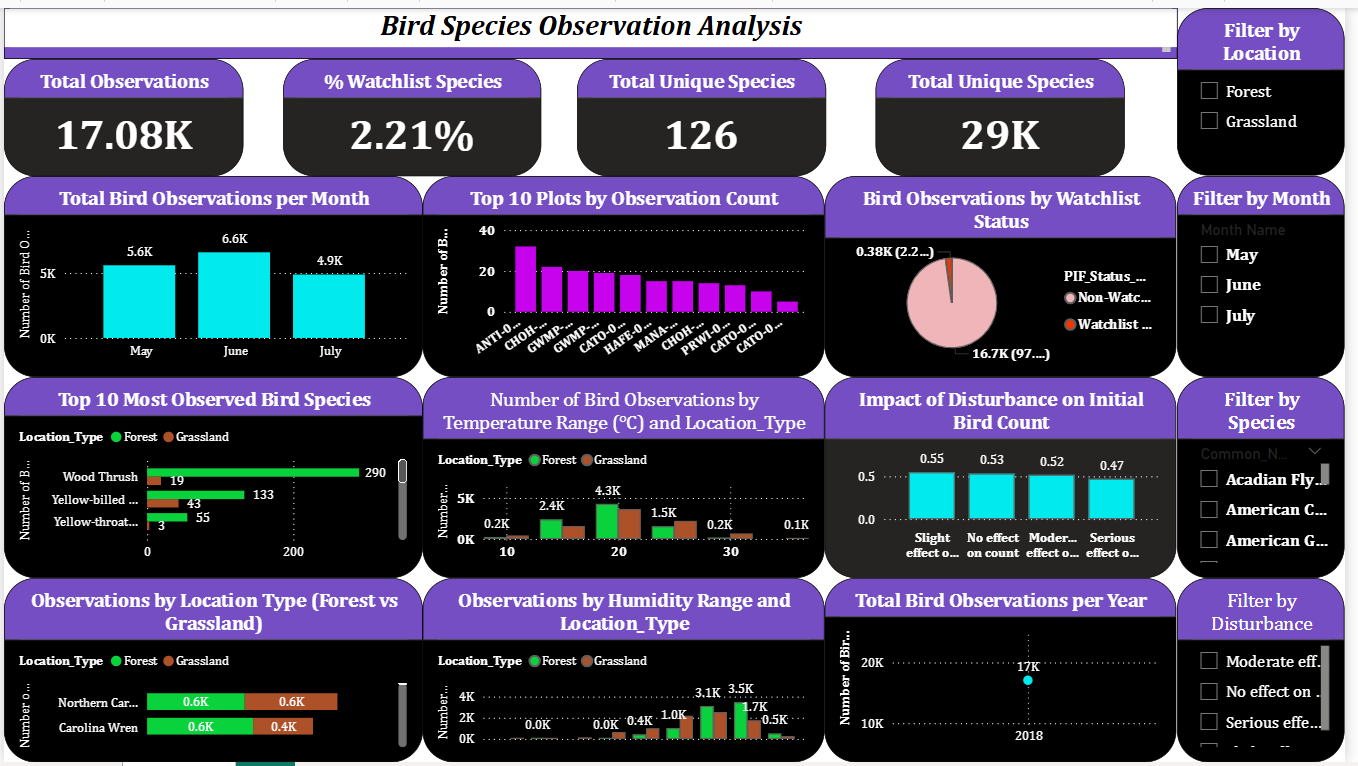

This screenshot's page, from the dashboard's own definition file:
{"tool":"powerbi","page":{"name":"Page 1","canvas":[1280,720],"ordinal":0},"visuals":[{"type":"lineChart","title":"Total Bird Observations per Year","fields":{"Category":["bird_data_cleaned.Year"],"Y":["CountNonNull(bird_data_cleaned.Common_Name)"]},"box":[784,544,336,176],"z":0},{"type":"clusteredColumnChart","title":"Total Bird Observations per Month","fields":{"Category":["bird_data_cleaned.Month Name"],"Y":["CountNonNull(bird_data_cleaned.Common_Name)"]},"box":[0,160,400,192],"z":1000},{"type":"barChart","title":"Observations by Location Type (Forest vs Grassland)","fields":{"Category":["bird_data_cleaned.Common_Name"],"Y":["CountNonNull(bird_data_cleaned.Location_Type)"],"Series":["bird_data_cleaned.Location_Type"]},"box":[0,544,400,176],"z":2000},{"type":"textbox","title":"Bird Species Observation Analysis ","box":[0,0,1120.5,48.5],"z":3000},{"type":"card","title":"Total Observations","fields":{"Values":["CountNonNull(bird_data_cleaned.Common_Name)"]},"box":[0,48.5,228.6,112.1],"z":4000},{"type":"card","title":"Total Unique Species","fields":{"Values":["Count(bird_data_cleaned.Common_Name)"]},"box":[546.6,48.5,237.7,112.1],"z":5000},{"type":"clusteredColumnChart","title":" Top 10 Plots by Observation Count","fields":{"Category":["bird_data_cleaned.Plot_Name"],"Y":["CountNonNull(bird_data_cleaned.Common_Name)"]},"box":[400,160,384,192],"z":6000},{"type":"clusteredBarChart","title":"Top 10 Most Observed Bird Species","fields":{"Category":["bird_data_cleaned.Common_Name"],"Y":["CountNonNull(bird_data_cleaned.Common_Name)"],"Series":["bird_data_cleaned.Location_Type"]},"box":[0,352,400,192],"z":7000},{"type":"clusteredColumnChart","fields":{"Category":["bird_data_cleaned.Temperature (Groups)"],"Y":["CountNonNull(bird_data_cleaned.Common_Name)"],"Series":["bird_data_cleaned.Location_Type"]},"box":[400,352,384,192],"z":8000},{"type":"clusteredColumnChart","title":"Observations by Humidity Range and Location_Type","fields":{"Category":["bird_data_cleaned.Humidity (Groups)"],"Y":["CountNonNull(bird_data_cleaned.Common_Name)"],"Series":["bird_data_cleaned.Location_Type"]},"box":[400,544,384,176],"z":9000},{"type":"pieChart","title":"Bird Observations by Watchlist Status","fields":{"Y":["CountNonNull(bird_data_cleaned.Common_Name)"],"Category":["bird_data_cleaned.PIF_Status_Label"]},"box":[784,160,336,192],"z":10000},{"type":"clusteredColumnChart","title":"Impact of Disturbance on Initial Bird Count","fields":{"Category":["bird_data_cleaned.Disturbance"],"Y":["Avg(bird_data_cleaned.Initial_Three_Min_Cnt)"]},"box":[784,352,336,192],"z":11000},{"type":"card","title":"% Watchlist Species","fields":{"Values":["bird_data_cleaned.Watchlist_Percentage"]},"box":[266.5,48.5,246.8,112.1],"z":12000},{"type":"slicer","title":"Filter by Location","fields":{"Values":["bird_data_cleaned.Location_Type"]},"box":[1120,0,160,160],"z":13000},{"type":"slicer","title":"Filter by Month","fields":{"Values":["bird_data_cleaned.Month Name"]},"box":[1120,160,160,192],"z":14000},{"type":"slicer","title":"Filter by Species","fields":{"Values":["bird_data_cleaned.Common_Name"]},"box":[1120,352,160,192],"z":15000},{"type":"slicer","title":"Filter by Disturbance","fields":{"Values":["bird_data_cleaned.Disturbance"]},"box":[1120,544,160,176],"z":16000},{"type":"card","title":"Total Unique Species","fields":{"Values":["Sum(bird_data_cleaned.Visit)"]},"box":[832.8,48.5,237.7,112.1],"z":16001}]}

Visuals, with their boxes in screenshot pixels (x1, y1, x2, y2), scaled from the page's 1280x720 canvas onto the 1358x766 screenshot:
"Total Bird Observations per Year" lineChart: l=832, t=579, r=1188, b=765
"Total Bird Observations per Month" clusteredColumnChart: l=0, t=170, r=424, b=374
"Observations by Location Type (Forest vs Grassland)" barChart: l=0, t=579, r=424, b=765
"Bird Species Observation Analysis " textbox: l=0, t=0, r=1189, b=52
"Total Observations" card: l=0, t=52, r=243, b=171
"Total Unique Species" card: l=580, t=52, r=832, b=171
" Top 10 Plots by Observation Count" clusteredColumnChart: l=424, t=170, r=832, b=374
"Top 10 Most Observed Bird Species" clusteredBarChart: l=0, t=374, r=424, b=579
clusteredColumnChart - bird_data_cleaned.Temperature (Groups) x CountNonNull(bird_data_cleaned.Common_Name): l=424, t=374, r=832, b=579
"Observations by Humidity Range and Location_Type" clusteredColumnChart: l=424, t=579, r=832, b=765
"Bird Observations by Watchlist Status" pieChart: l=832, t=170, r=1188, b=374
"Impact of Disturbance on Initial Bird Count" clusteredColumnChart: l=832, t=374, r=1188, b=579
"% Watchlist Species" card: l=283, t=52, r=545, b=171
"Filter by Location" slicer: l=1188, t=0, r=1357, b=170
"Filter by Month" slicer: l=1188, t=170, r=1357, b=374
"Filter by Species" slicer: l=1188, t=374, r=1357, b=579
"Filter by Disturbance" slicer: l=1188, t=579, r=1357, b=765
"Total Unique Species" card: l=884, t=52, r=1136, b=171
